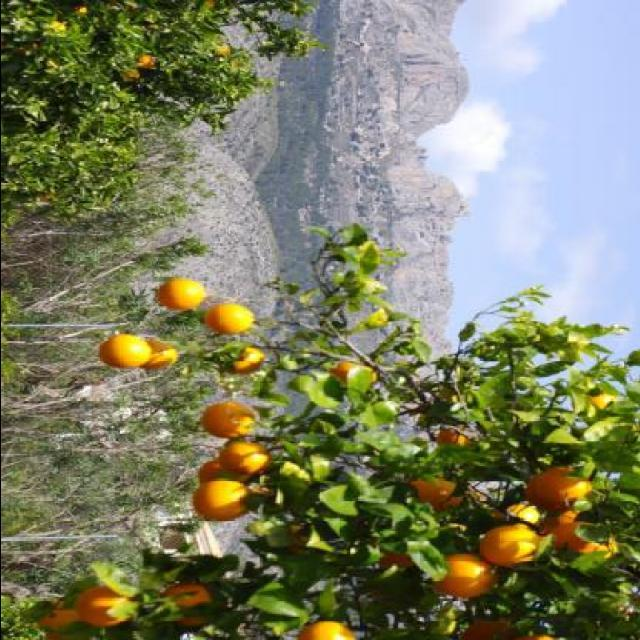Orange: (552, 516, 622, 560), (428, 554, 498, 598), (193, 477, 255, 526), (405, 472, 469, 514), (532, 471, 604, 507), (70, 591, 148, 623), (155, 580, 217, 616), (473, 524, 547, 554), (204, 404, 258, 442), (224, 442, 272, 482), (205, 302, 253, 334), (100, 336, 148, 368), (160, 276, 202, 308), (334, 359, 374, 390), (435, 424, 477, 453), (306, 620, 357, 640), (148, 338, 182, 366), (232, 347, 262, 371)
